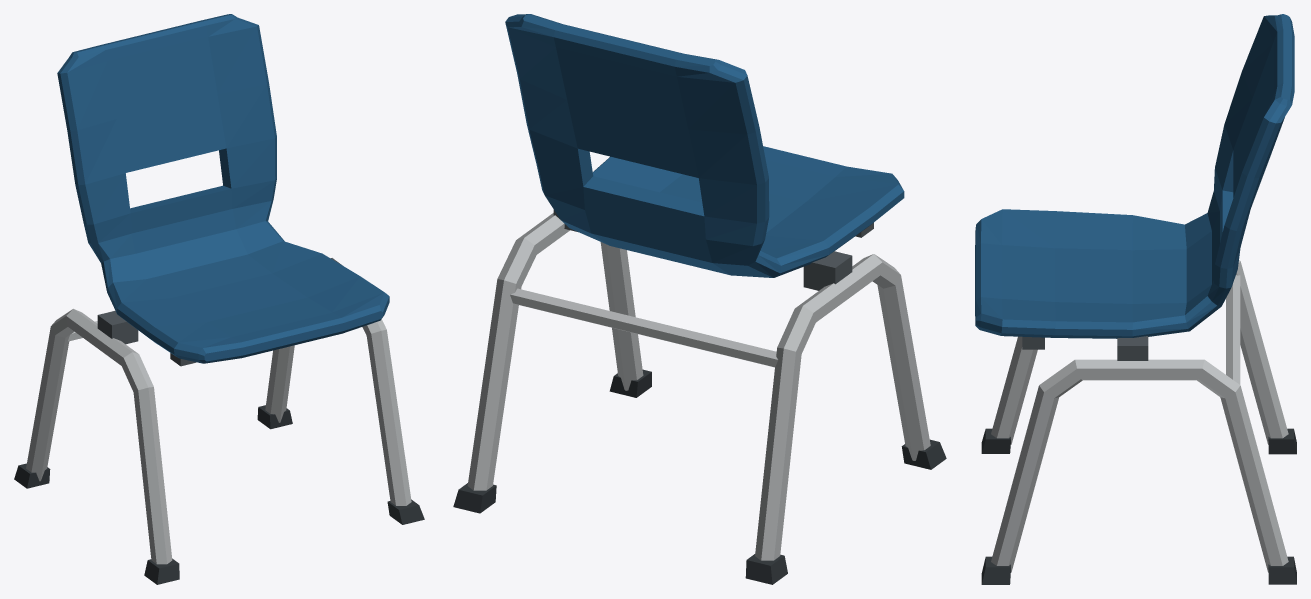
File: stacking-pupil-chair-738aac.glb
The picture shows the model from 3 angles, left to right: view 1: azimuth 30°, elevation 25°; view 2: azimuth 150°, elevation 25°; view 3: azimuth 270°, elevation 25°; orthographic projection. The views are drawn at different scales.
Visible parts, largest first — view 1: stacking-pupil-chair-mesh; view 2: stacking-pupil-chair-mesh; view 3: stacking-pupil-chair-mesh.
Boxes of the visible parts, bbox=[...] form: stacking-pupil-chair-mesh: bbox=[14, 14, 424, 584]; stacking-pupil-chair-mesh: bbox=[453, 14, 946, 584]; stacking-pupil-chair-mesh: bbox=[975, 14, 1296, 584].
Size of the model in its own units: 0.4785 by 0.7147 by 0.4554.
